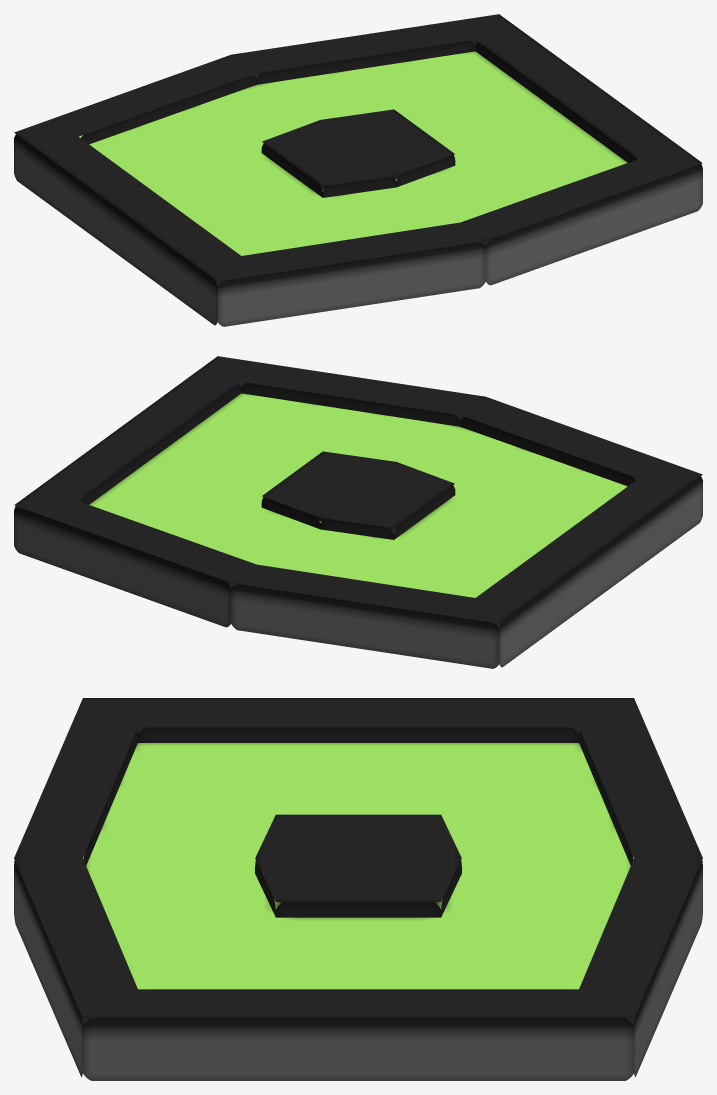
3 renders of one model, top to bottom at view 1: azimuth 30°, elevation 25°; view 2: azimuth 150°, elevation 25°; view 3: azimuth 270°, elevation 25°, orthographic. The views are drawn at different scales.
Parts seen in each view (by area): view 1: cuboid, glow, cuboid_1; view 2: cuboid, glow, cuboid_1; view 3: cuboid, glow, cuboid_1.
Part boxes in pixels (<box>): cuboid: <box>14,14,702,326</box>; glow: <box>89,51,627,255</box>; cuboid_1: <box>261,109,455,197</box>; cuboid: <box>14,356,702,668</box>; glow: <box>89,393,627,597</box>; cuboid_1: <box>261,451,455,539</box>; cuboid: <box>14,698,702,1080</box>; glow: <box>86,743,630,989</box>; cuboid_1: <box>255,814,461,917</box>.
Bounding box in the file's own units: 138 × 12.5 × 125.
Materials: 1 (1 with a texture image).
